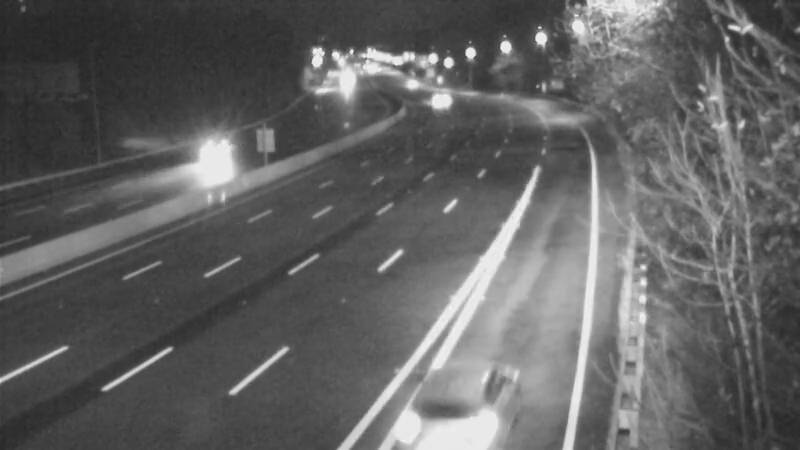vehicle: (399, 353, 509, 450), (172, 115, 252, 195), (383, 58, 433, 108), (409, 72, 459, 122)
